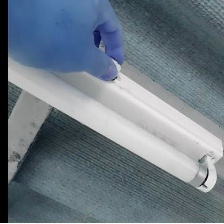light_bulb: (0, 53, 216, 194)
